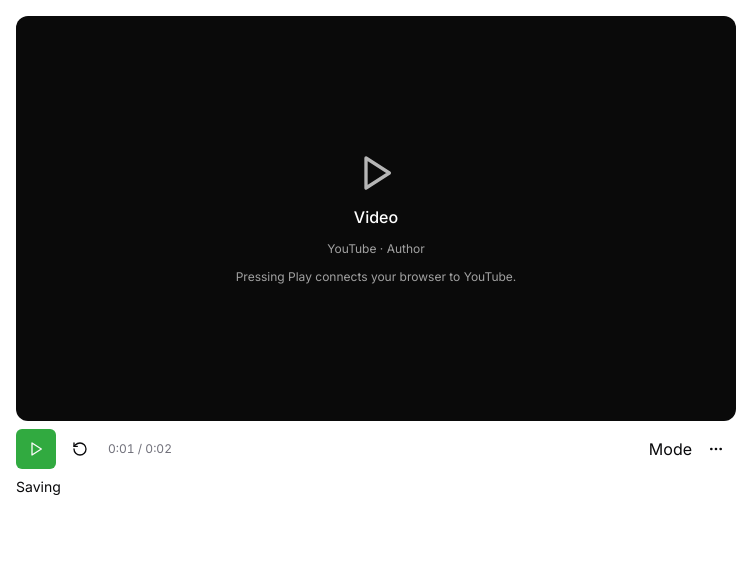
Test: shows icon controls, the toolbar slot, statuses and the overflow menu
Expected: the button named "Play fragment" is empty, left=16, top=429, right=56, bottom=469
Expected: the button named "Replay fragment" is empty, left=60, top=429, right=100, bottom=469
Click the button named "More": (716, 449) left=696, top=429, right=736, bottom=469
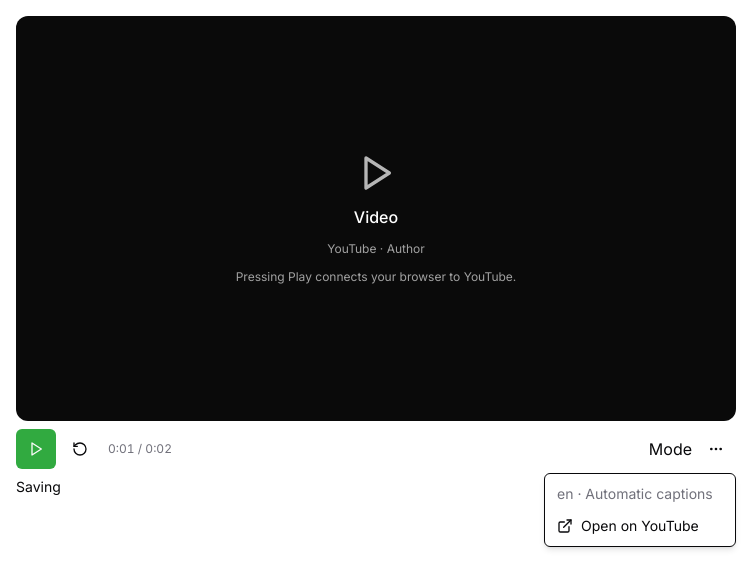
Expected: the text "en · Automatic captions" is shown, left=557, top=485, right=713, bottom=502
